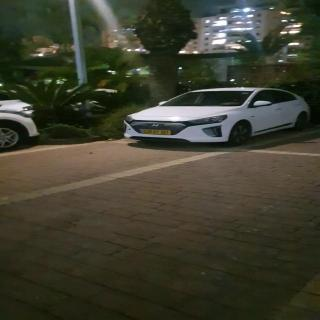LicensePlate: (144, 130, 170, 135)
